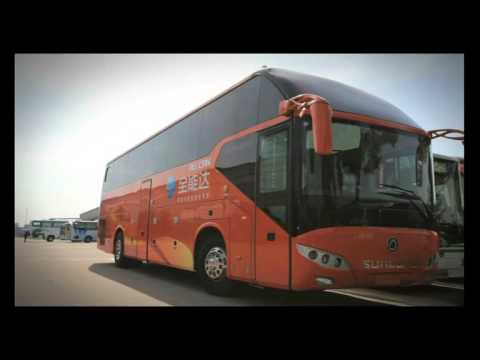bus: (96, 66, 440, 299)
